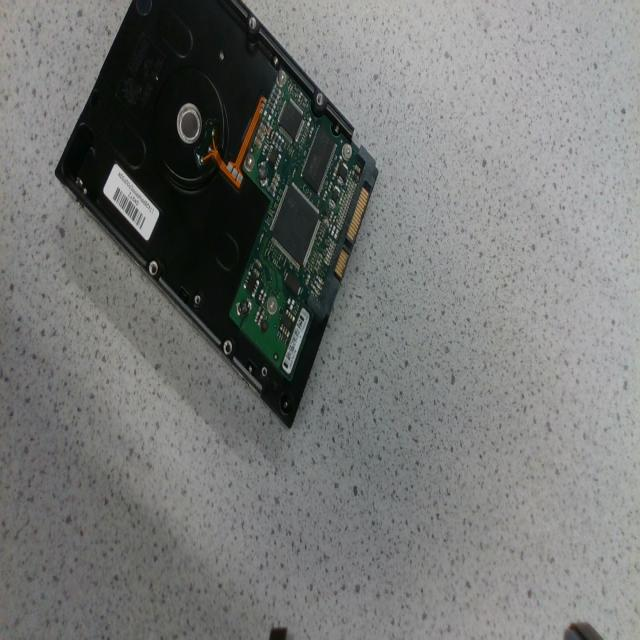case: (56, 0, 378, 427)
pcb: (231, 69, 376, 380)
screw: (266, 297, 278, 315), (244, 153, 254, 172), (342, 143, 352, 161), (278, 68, 287, 86)
